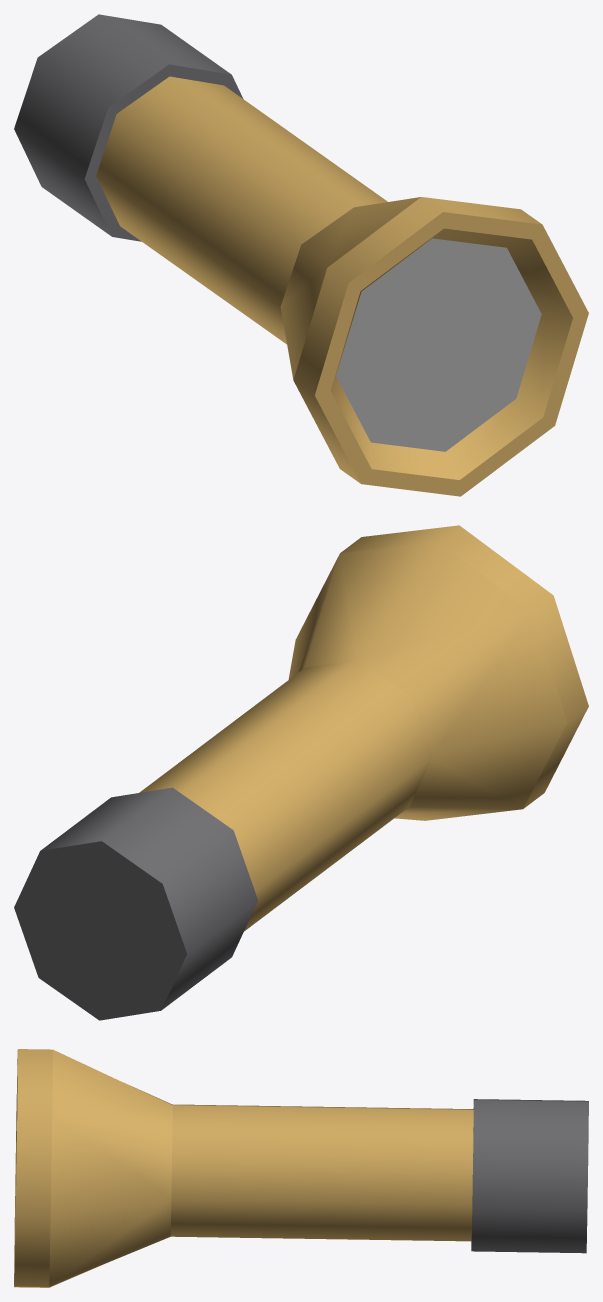
File: Torch.fbx
The picture shows the model from 3 angles, top to bottom: view 1: azimuth 30°, elevation 25°; view 2: azimuth 150°, elevation 25°; view 3: azimuth 270°, elevation 25°; orthographic projection. The views are drawn at different scales.
Visible parts, largest first — view 1: Cube.003; view 2: Cube.003; view 3: Cube.003.
Part boxes in pixels (x1,y1,x2,y2): Cube.003: [14, 14, 588, 496]; Cube.003: [14, 525, 588, 1020]; Cube.003: [14, 1049, 588, 1287].
Bounding box in the file's own units: 9.78 × 9.79 × 21.91.
